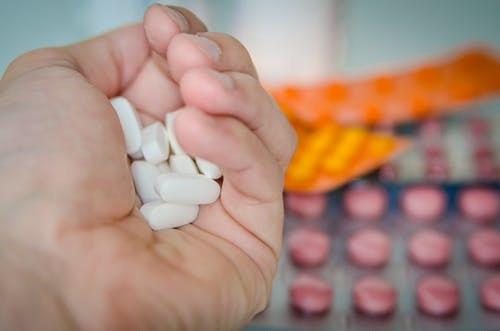pills: (154, 177, 219, 205), (144, 115, 170, 166)
